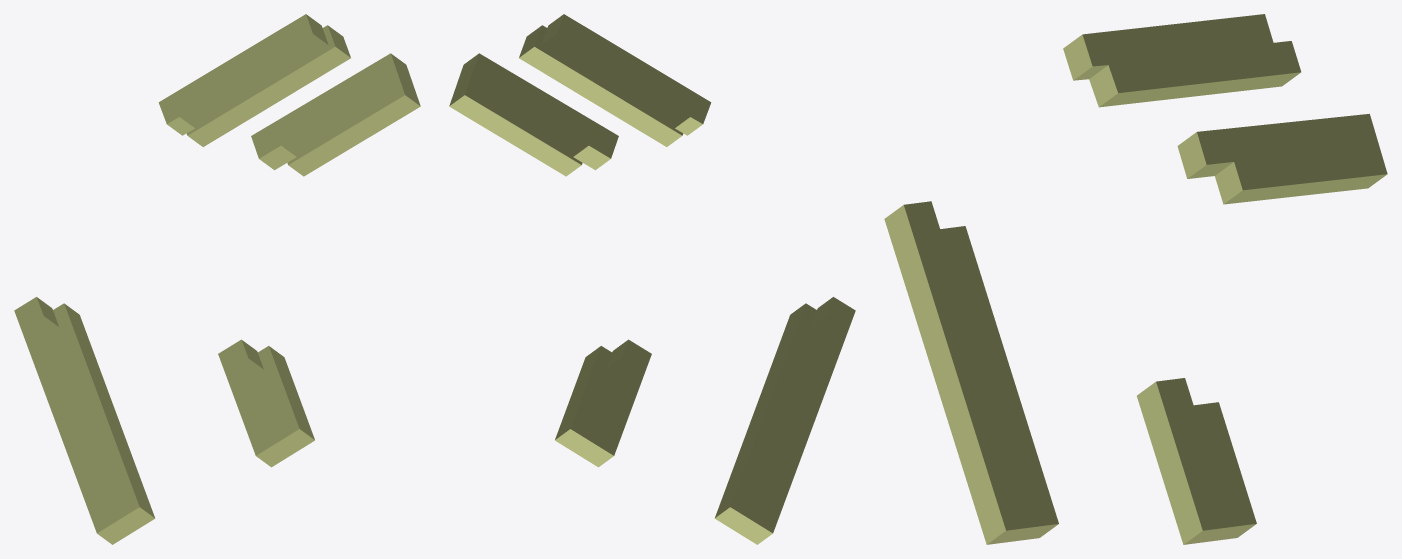
3 views of the same model, side by side, from view 1: azimuth 30°, elevation 25°; view 2: azimuth 150°, elevation 25°; view 3: azimuth 330°, elevation 25° (orthographic). The views are drawn at different scales.
Visible parts, largest first — view 1: 0_1_3_2_2_2_1_3; view 2: 0_1_3_2_2_2_1_3; view 3: 0_1_3_2_2_2_1_3.
Part boxes in pixels (x1=…): 0_1_3_2_2_2_1_3: x1=14, y1=14, x2=420, y2=544; 0_1_3_2_2_2_1_3: x1=449, y1=14, x2=855, y2=544; 0_1_3_2_2_2_1_3: x1=884, y1=14, x2=1387, y2=544.
Size of the model in its own units: 86.41 by 98.94 by 6.
